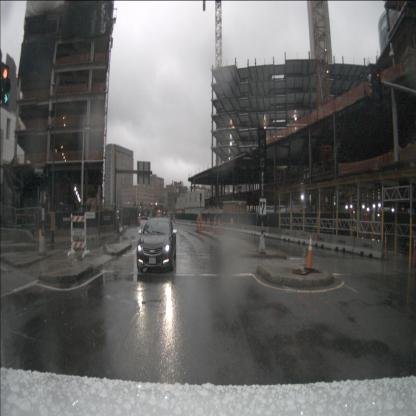barrier: (352, 236, 384, 259), (330, 235, 355, 254), (311, 232, 332, 249), (79, 226, 100, 242), (56, 228, 78, 243), (294, 230, 313, 246), (280, 229, 297, 242), (99, 227, 115, 239), (255, 226, 270, 238), (268, 228, 282, 239), (249, 225, 258, 235), (241, 224, 250, 234), (234, 223, 242, 232)
cone: (304, 232, 315, 271), (383, 230, 389, 261), (38, 228, 44, 252), (412, 234, 416, 268), (212, 216, 217, 235), (218, 219, 223, 235), (206, 215, 210, 231), (202, 216, 206, 231), (196, 218, 199, 233), (230, 218, 234, 226), (138, 218, 141, 225)
